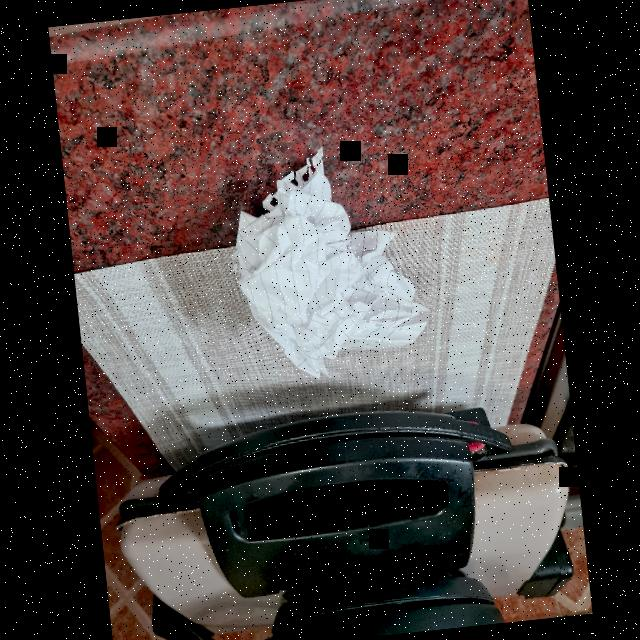scrap_paper: (222, 154, 432, 376)
